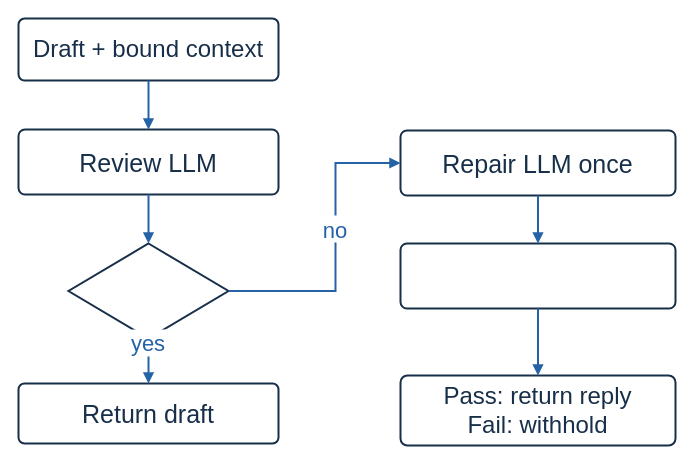
Some shapes in this 693 by 463 pixel diagram are drawn without their labels. Each missing label, with the centre of its shape:
Pass?: pixel 148 290
Review revised reply: pixel 537 275
